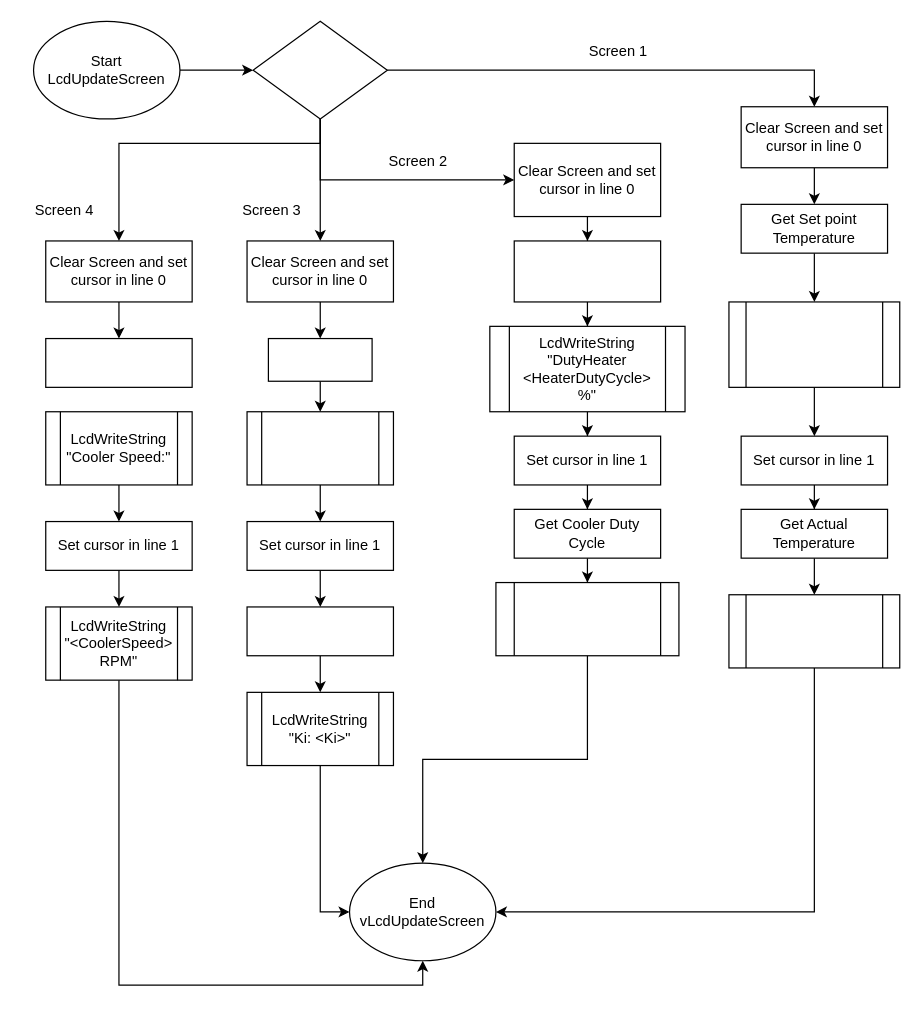
This 921x1016 diagram has some shape labels left out. The centre of each missing label's shape, as x and y in pixels:
Get Cooler Speed: point 118,362
Get Heater Duty Cycle: point 587,271
Get Ki: point 319,631
Get Kp: point 319,359
LcdWriteString "DutyCooler <CoolerDutyCycle> %": point 587,618
LcdWriteString "Kp: <Kp>": point 319,448
LcdWriteString "T.Atual: <ActualTemp> ºC": point 814,631
LcdWriteString "T.Des.: <SetPointTemp>ºC": point 814,344
Switch: Screen: point 319,69
